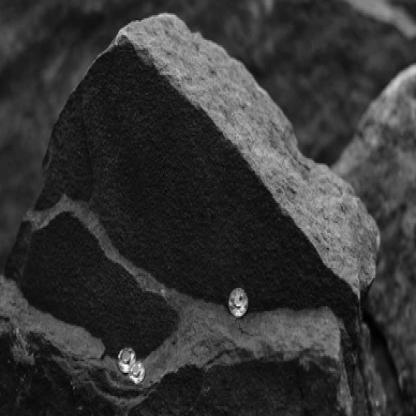Sedimentary_coal: (22, 4, 392, 330)
